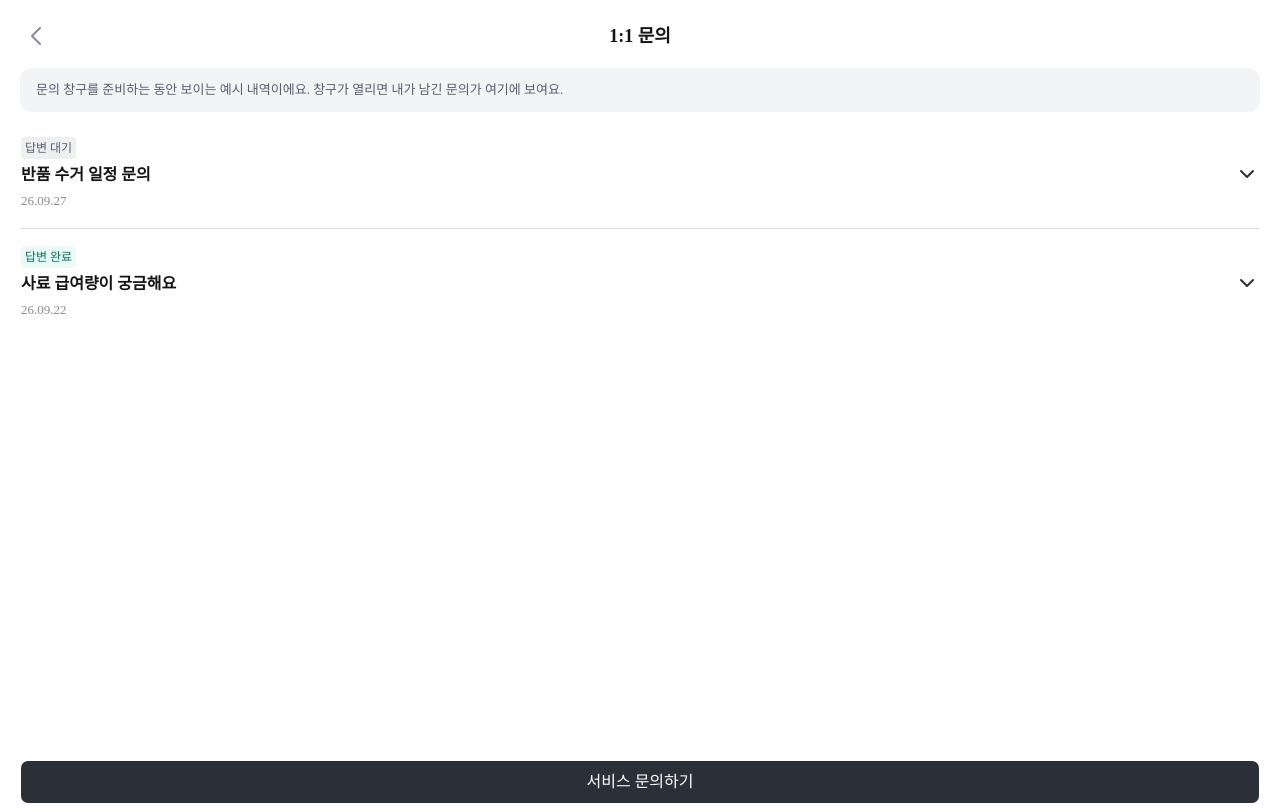
Test: 답변이 달린 문의만 펼쳤을 때 답변을 보인다
Click the button "답변 완료 사료 급여량이 궁금해요 26.09.22".
click(49, 257)  # box [20,229,1260,337]
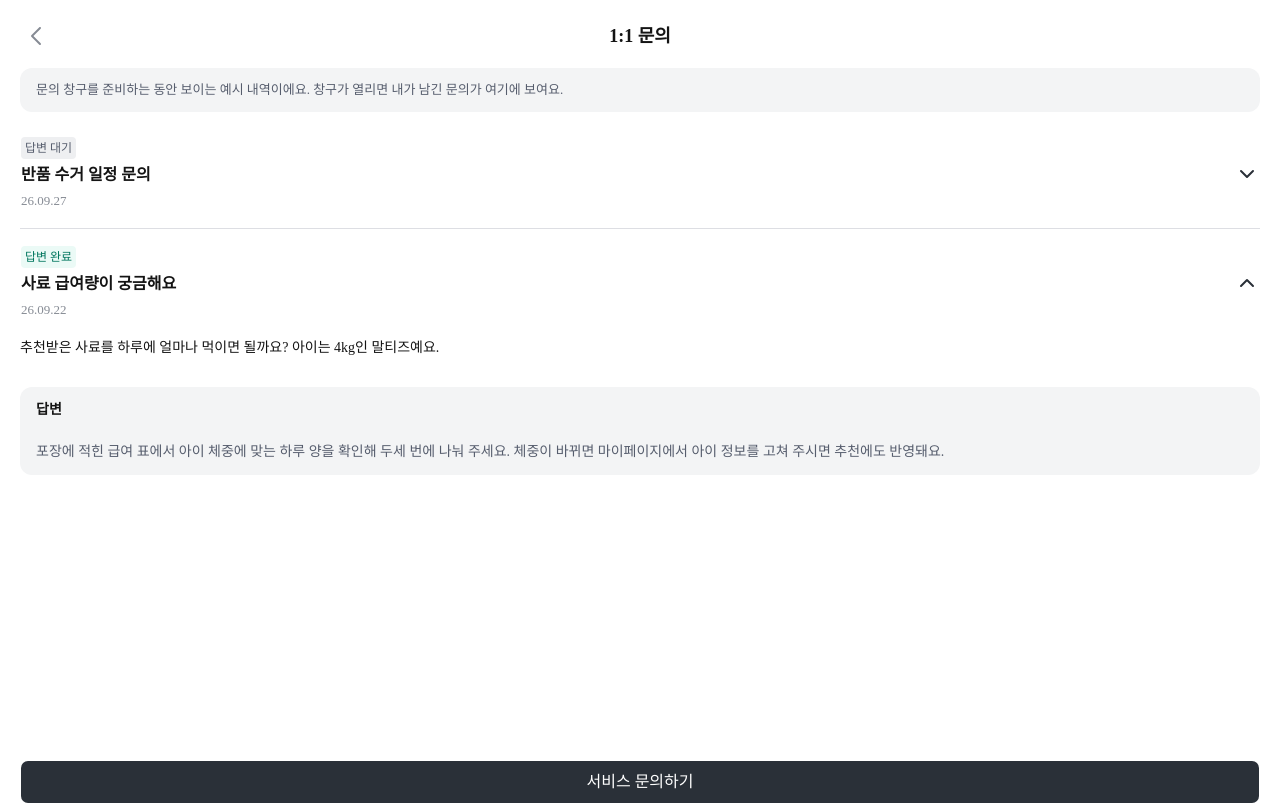
Check: the text "답변" is shown, box [36,402,62,417]
Click the button "답변 대기 반품 수거 일정 문의 26.09.27".
click(49, 148)  # box [20,120,1260,228]
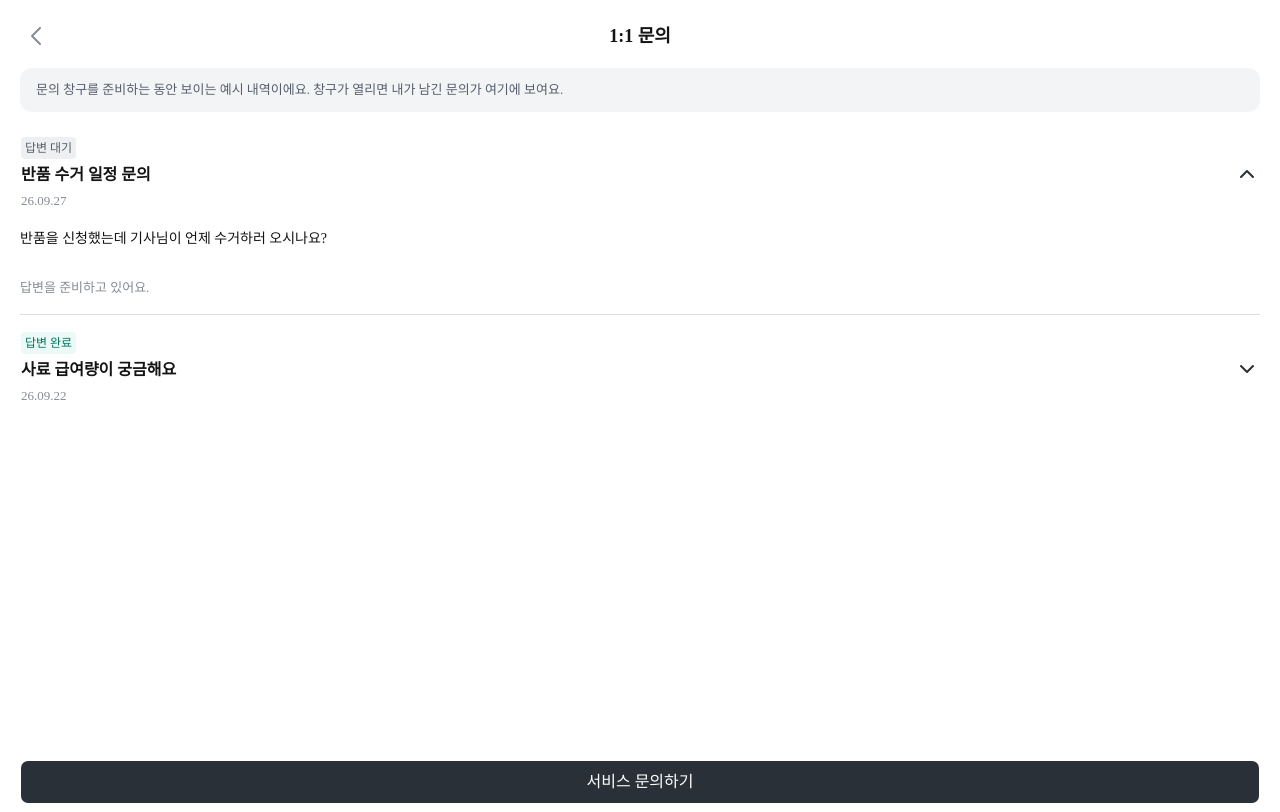
Check: the text "답변을 준비하고 있어요." is shown, box [20,280,149,295]
